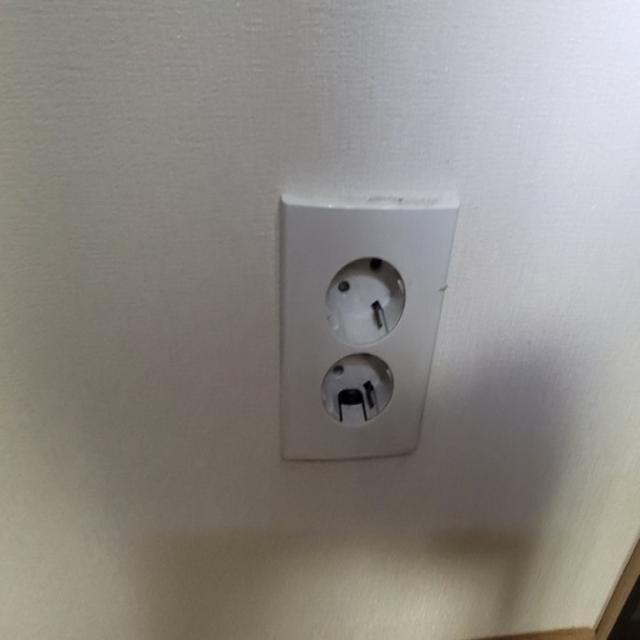typeb: (246, 146, 457, 575)
